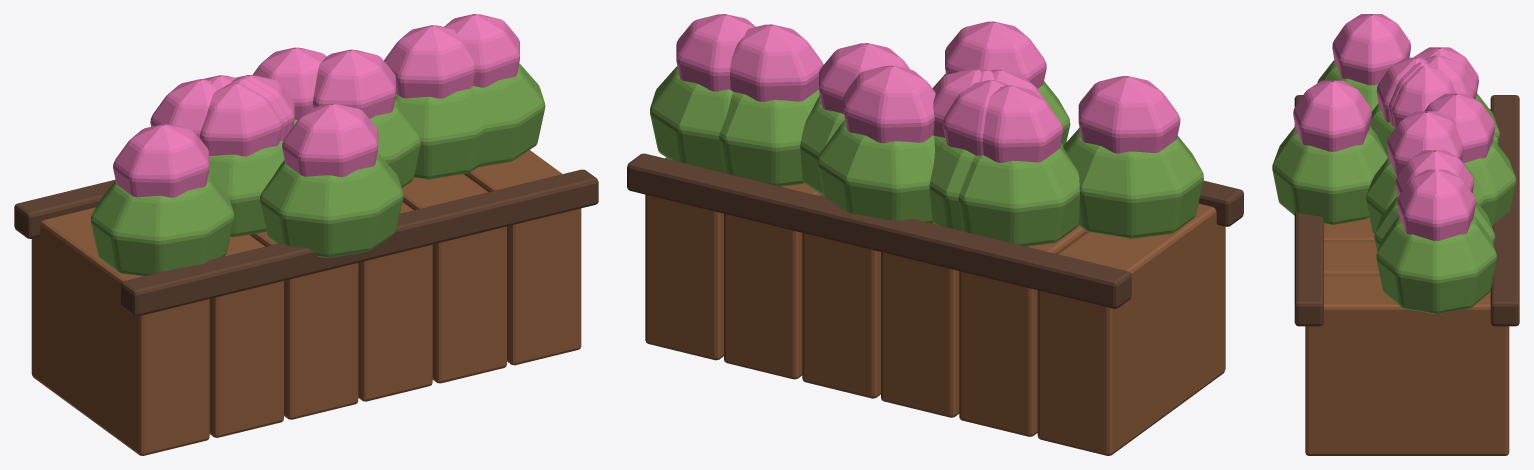
Rendered from ashwick-flower-box.meshopt.glb.
3 views of the same model, side by side, from view 1: azimuth 30°, elevation 25°; view 2: azimuth 150°, elevation 25°; view 3: azimuth 270°, elevation 25° (orthographic). The views are drawn at different scales.
Parts seen in each view (by area): view 1: Box facing.001, Foliage.001, Blossoms.001, Top trim.001; view 2: Box facing.001, Foliage.001, Blossoms.001, Top trim.001; view 3: Box facing.001, Blossoms.001, Foliage.001, Top trim.001.
Part boxes in pixels (x1,y1,x2,y2): Box facing.001: (31, 150, 581, 455); Foliage.001: (90, 63, 545, 276); Blossoms.001: (113, 14, 519, 197); Top trim.001: (14, 169, 598, 316); Box facing.001: (645, 157, 1225, 455); Foliage.001: (650, 66, 1203, 246); Blossoms.001: (676, 14, 1180, 162); Top trim.001: (627, 153, 1243, 308); Box facing.001: (1305, 109, 1509, 455); Blossoms.001: (1293, 14, 1495, 240); Foliage.001: (1272, 60, 1516, 314); Top trim.001: (1294, 95, 1519, 326).
Bounding box in the file's own units: 1.23 × 0.715 × 0.5942.
